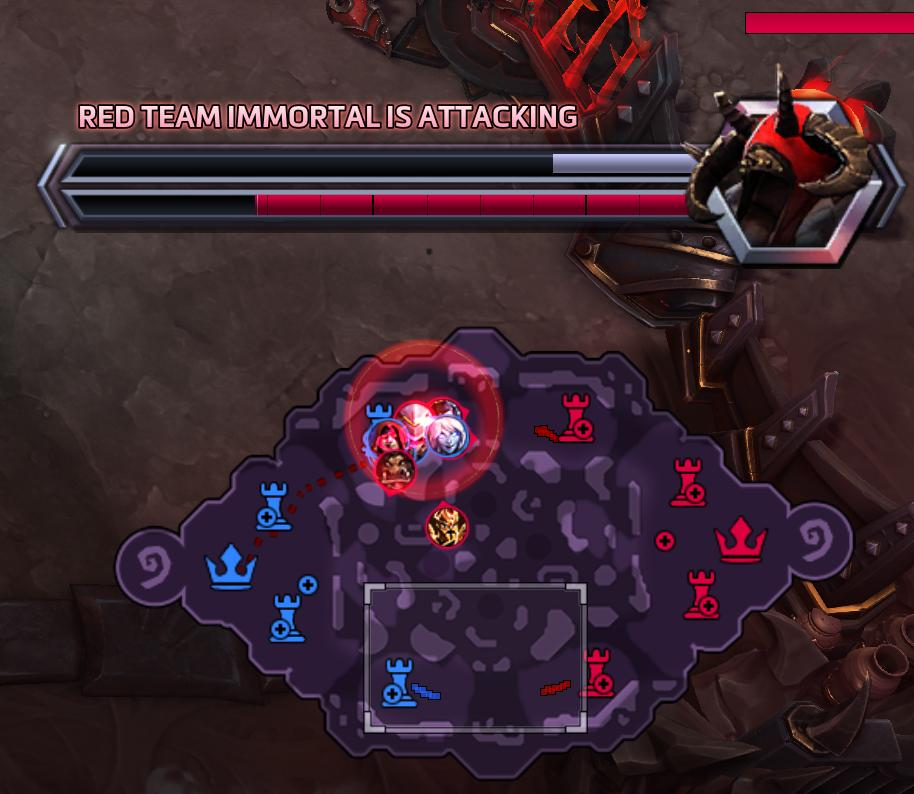blue nexus: (202, 540, 259, 590)
blue player: (427, 415, 471, 458)
blue tower: (370, 650, 426, 714), (266, 592, 308, 643), (254, 479, 294, 531)
red player: (710, 510, 773, 568), (424, 502, 469, 550), (373, 450, 416, 493), (368, 420, 412, 461), (394, 401, 435, 443)
red tower: (664, 451, 714, 510), (552, 389, 601, 446), (675, 569, 722, 626), (574, 648, 619, 702)
